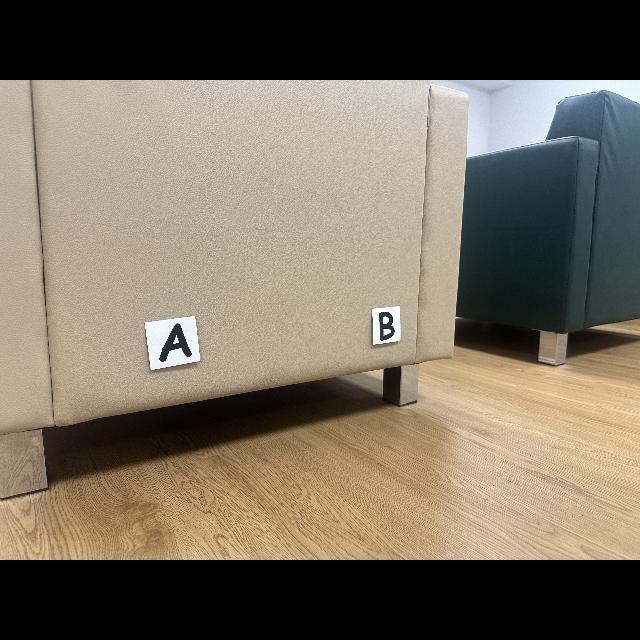A: (159, 324, 191, 361)
B: (379, 311, 395, 341)
